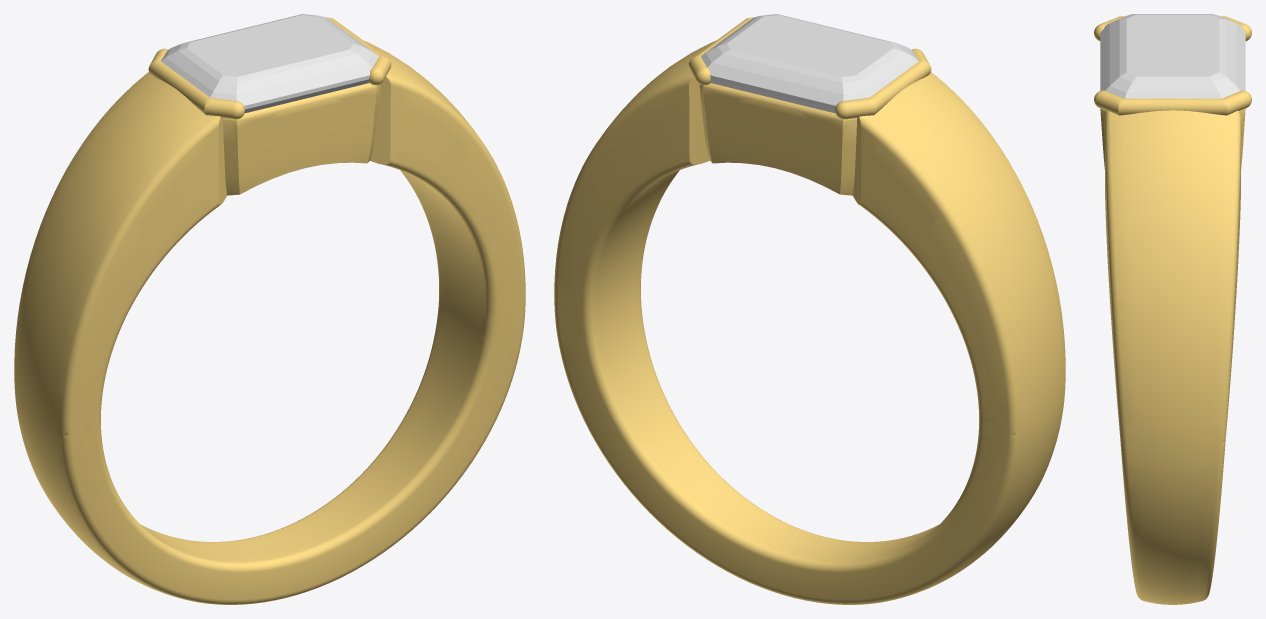
The model's file is GianYGengv1_blender.glb.
3 renders of one model, left to right at view 1: azimuth 30°, elevation 25°; view 2: azimuth 150°, elevation 25°; view 3: azimuth 270°, elevation 25°, orthographic. The views are drawn at different scales.
Visible parts, largest first — view 1: Gian YG for 3d model, Gian dia for 3d model; view 2: Gian YG for 3d model, Gian dia for 3d model; view 3: Gian YG for 3d model, Gian dia for 3d model.
Part boxes in pixels (x1,y1,x2,y2): Gian YG for 3d model: (14, 17, 525, 604); Gian dia for 3d model: (161, 14, 378, 113); Gian YG for 3d model: (554, 17, 1065, 604); Gian dia for 3d model: (701, 14, 918, 113); Gian YG for 3d model: (1094, 16, 1251, 604); Gian dia for 3d model: (1100, 14, 1245, 98).
Bounding box in the file's own units: 19.89 × 22.02 × 5.9.
